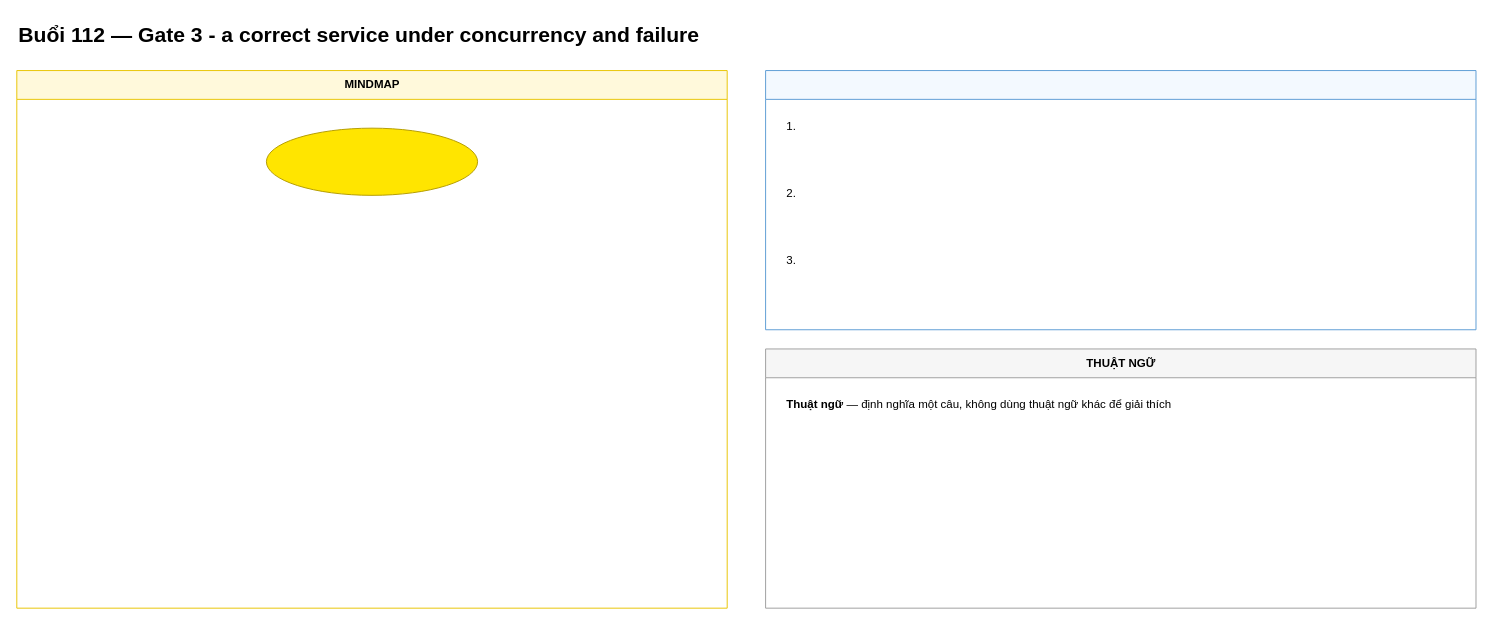
The diagram is 1493 pixels wide and 625 high, and some of its shapes have lost their labels. The shapes that lost their labels are listed below. From the top down, each one's box as (x1, y1, x2, y2) in pixels, then its label:
(265, 127, 478, 195): Gate 3 - a correct service under concurrency and failure
(765, 70, 1476, 330): KEY TAKEAWAY — ba điều phải nhớ
